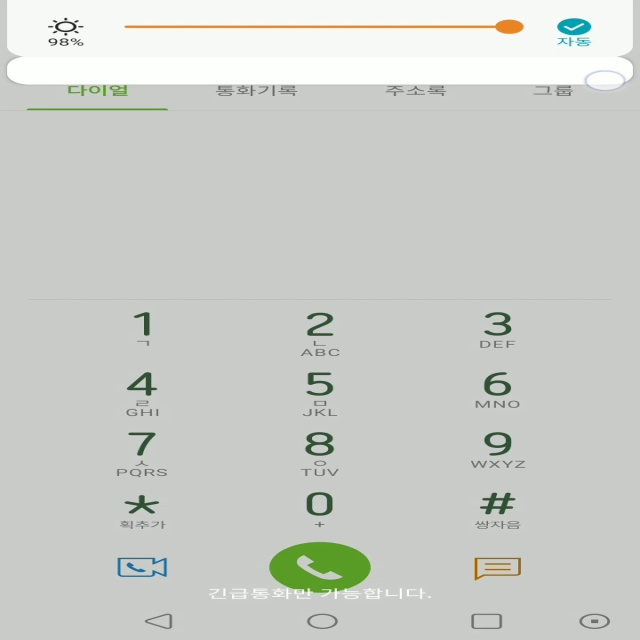Cursor: (584, 70, 629, 92)
